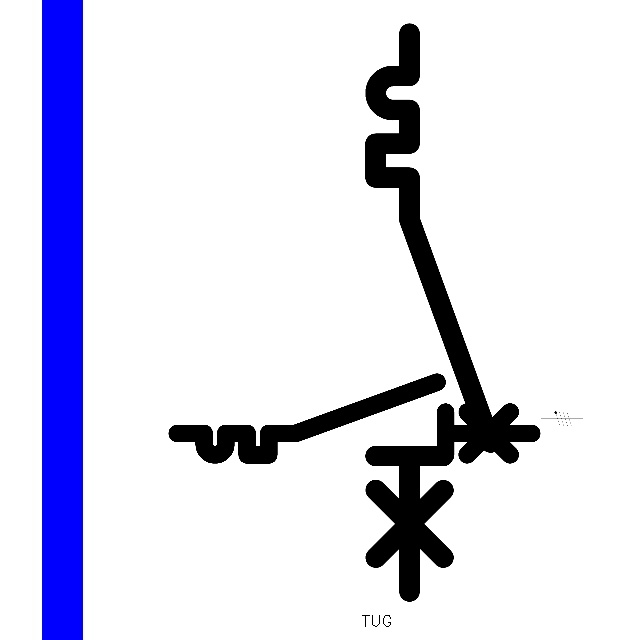interruptor_termomagnetico: (361, 19, 505, 606), (168, 373, 541, 464)
